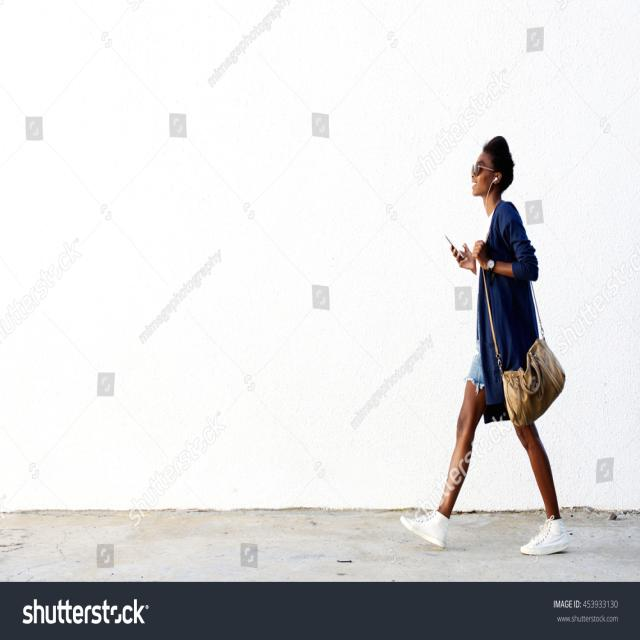Person: (401, 136, 570, 555)
